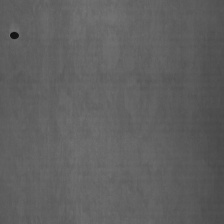punching_hole: (9, 31, 19, 40)
